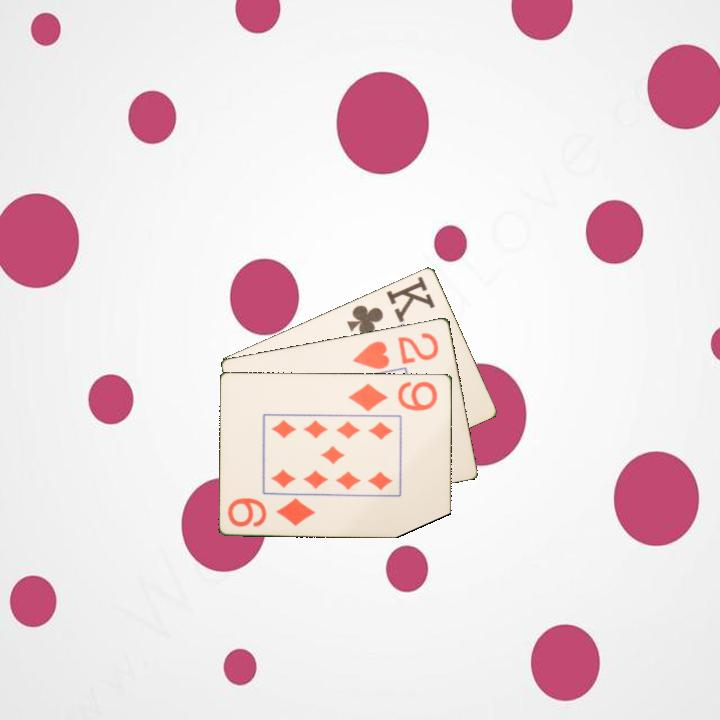2h: (349, 329, 442, 372)
9d: (345, 378, 441, 414), (224, 494, 318, 529)
Kc: (343, 272, 438, 339)
